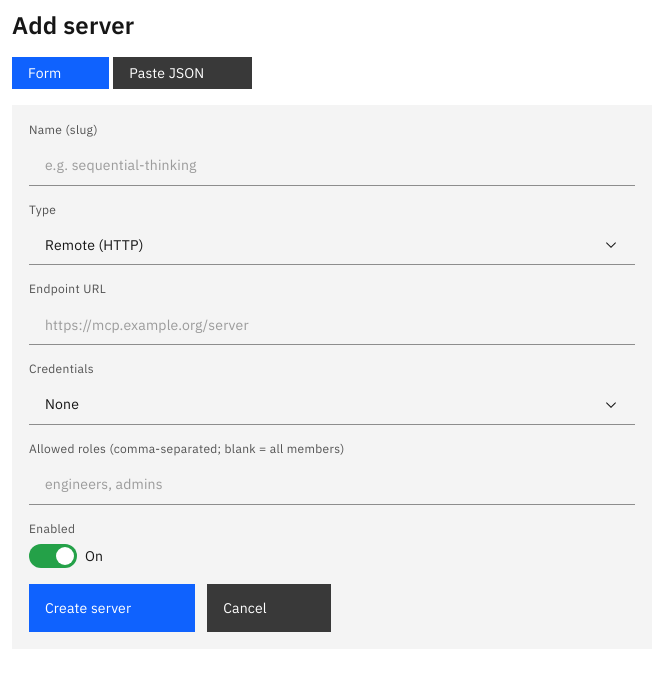
Scenario: ServerForm › surfaces a duplicate-slug error returned by the API
The width and height of the screenshot is (669, 686).
In the field labelled "Name (slug)": (332, 166) [29,146,635,186], type "dup"
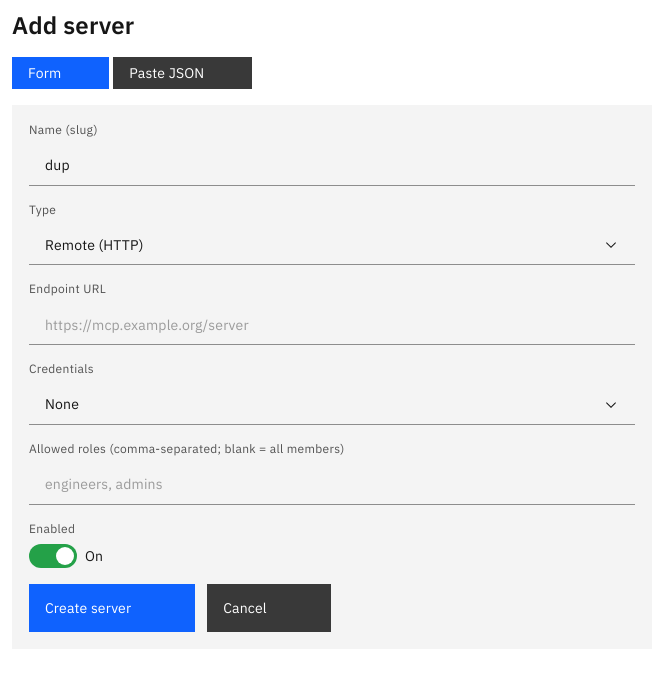
In the field labelled "Endpoint URL": (332, 325) [29,305,635,345], type "https://x.example"
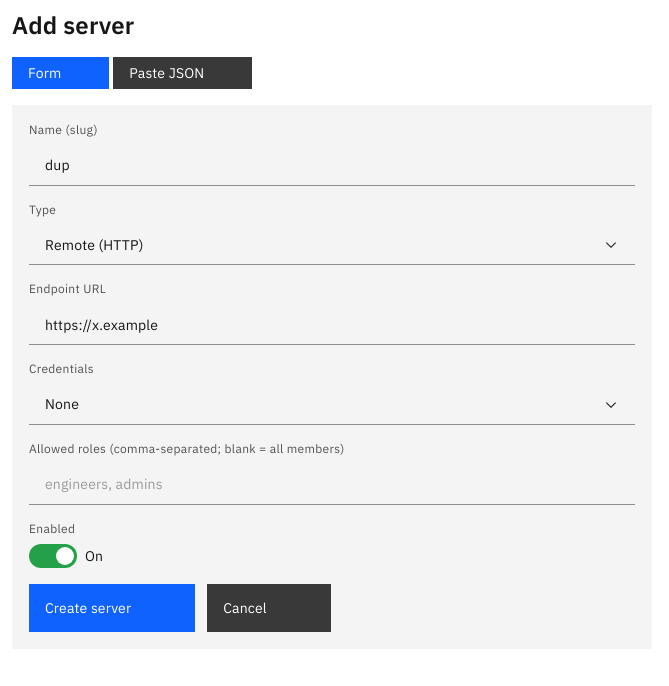
Click the button "Create server": (112, 608) [29,584,195,632]
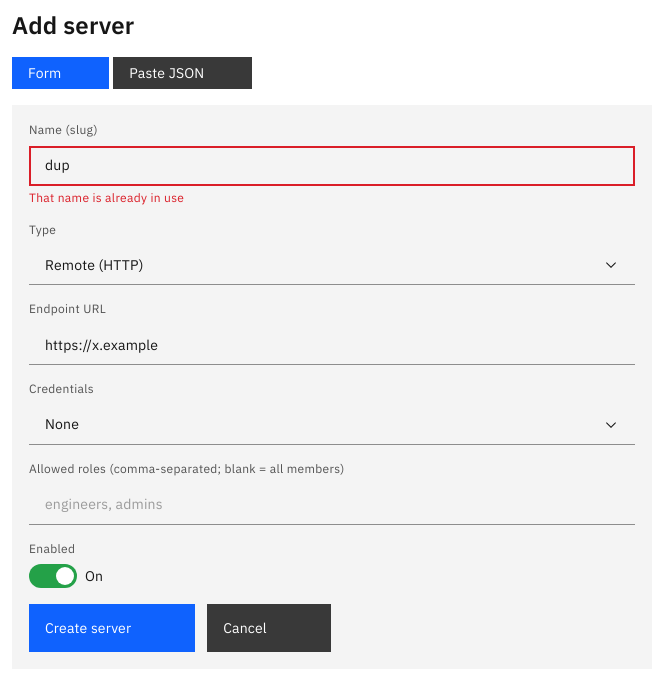
expect the text "That name is already in use" is shown: met, box [29,190,184,205]
